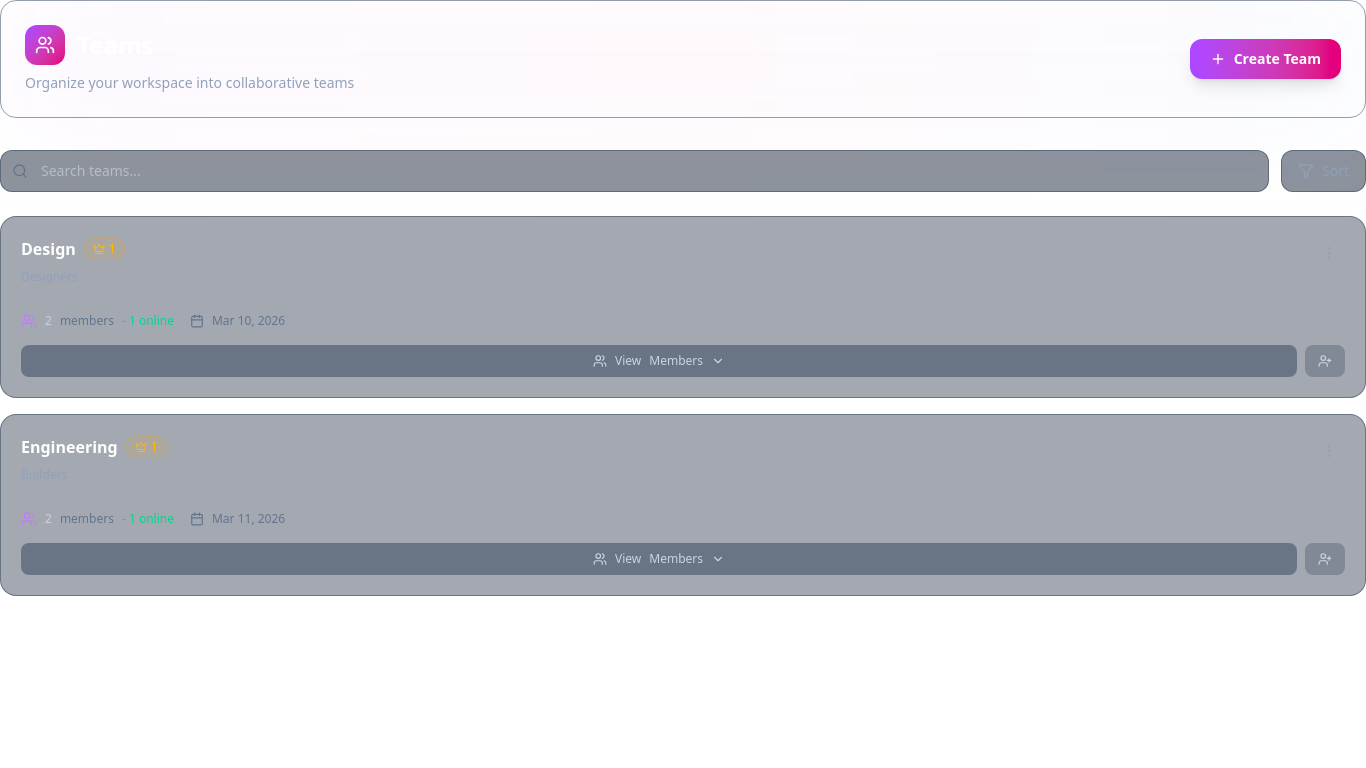
overview members and teams › loads teams inside the teams section and opens the create modal
expect the heading "Design" is shown: met, box left=21, top=237, right=76, bottom=261
Click the button "Create Team".
click(1265, 59)  # box left=1190, top=39, right=1341, bottom=79
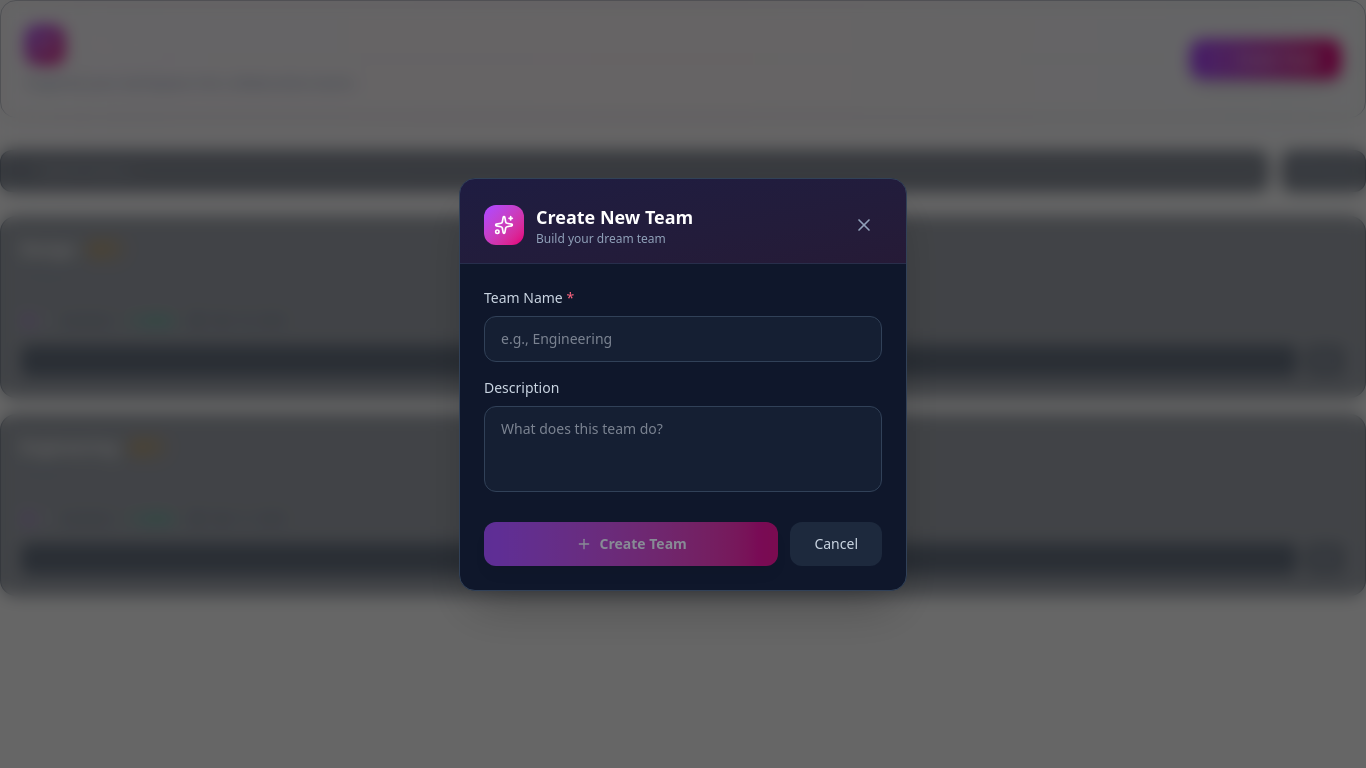
expect the heading "Create New Team" is shown: met, box left=536, top=202, right=693, bottom=230
